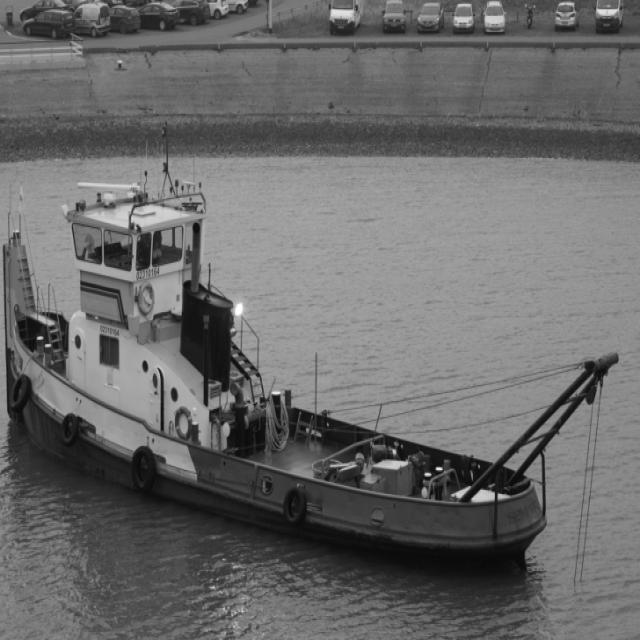tugboat: (2, 168, 624, 584)
